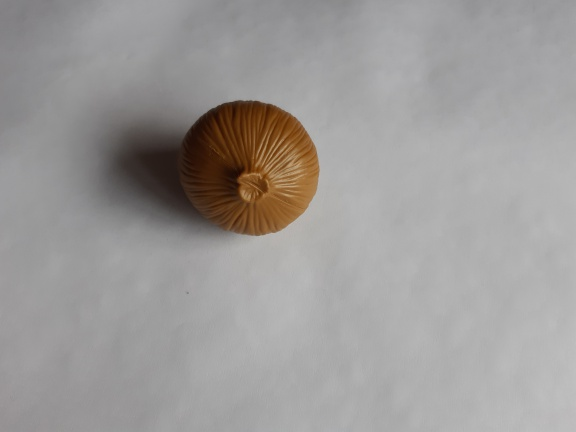onion: (166, 91, 336, 247)
